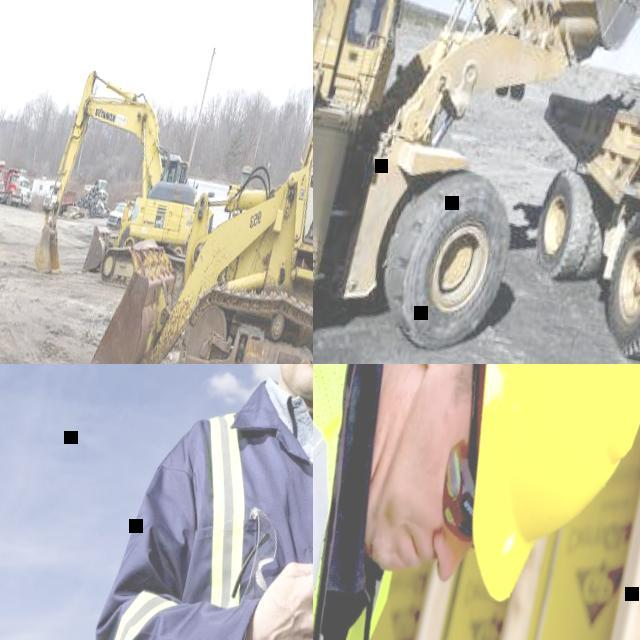helmet: (426, 364, 640, 624), (127, 200, 130, 204)
vest: (95, 399, 313, 640), (313, 364, 447, 640), (122, 207, 128, 221)
